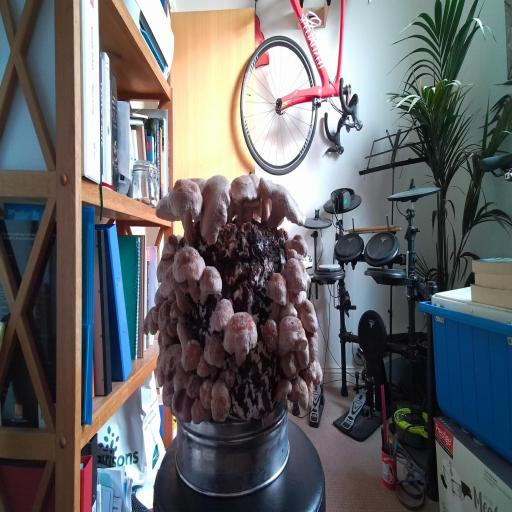Shiitake Mushroom: (153, 163, 222, 245), (207, 299, 274, 374), (141, 336, 207, 411), (155, 235, 225, 305), (244, 176, 319, 238), (214, 162, 269, 230), (147, 259, 207, 320), (252, 266, 300, 330), (198, 170, 233, 249), (200, 291, 242, 344), (170, 331, 213, 380), (151, 295, 186, 347), (152, 230, 182, 288), (148, 189, 184, 237), (192, 258, 226, 306), (292, 294, 324, 342), (280, 251, 311, 300), (255, 313, 288, 356), (188, 352, 225, 388), (246, 194, 282, 231), (286, 372, 315, 412), (278, 314, 308, 352), (201, 331, 229, 371), (297, 356, 326, 394), (169, 385, 195, 426), (137, 305, 162, 342), (210, 379, 231, 423), (150, 336, 177, 369), (279, 348, 302, 384), (182, 368, 205, 403), (273, 374, 295, 409), (189, 394, 213, 426), (185, 165, 211, 192), (294, 342, 314, 373), (197, 376, 214, 411), (285, 234, 309, 257), (276, 299, 300, 321), (244, 197, 262, 224), (245, 167, 265, 191), (156, 330, 177, 352), (170, 300, 189, 324), (307, 332, 319, 363), (288, 290, 308, 308), (160, 386, 174, 409), (306, 381, 314, 412), (157, 331, 164, 349)
